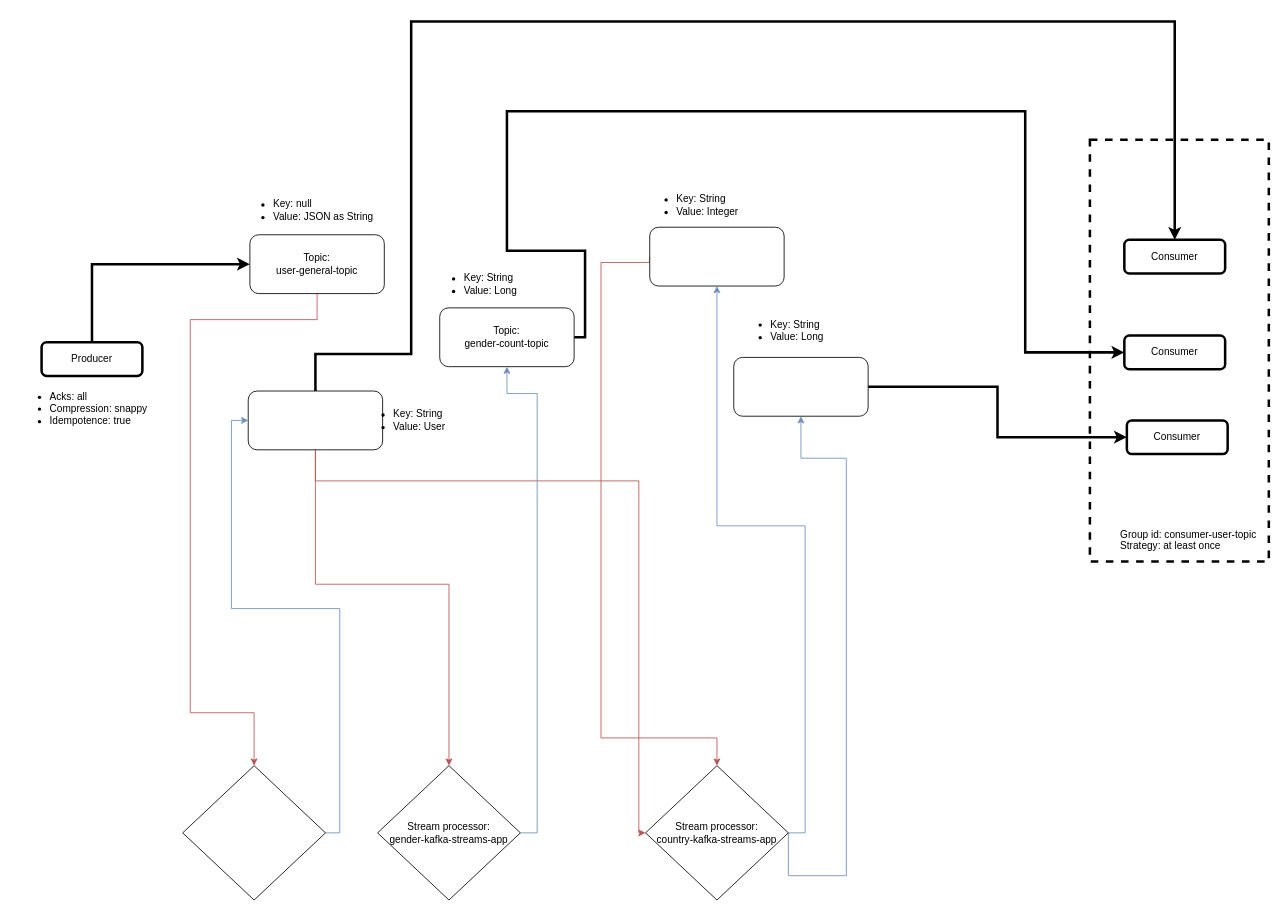
This 1284x915 diagram has some shape labels left out. The centre of each missing label's shape, as x and y in pixels:
"Stream processor: user-kafka-streams-app" goes at (x=254, y=832).
"Topic: country-age-range-topic" goes at (x=800, y=386).
"Topic: country-average-age-topic" goes at (x=716, y=256).
"Topic: user-topic" goes at (x=315, y=420).
